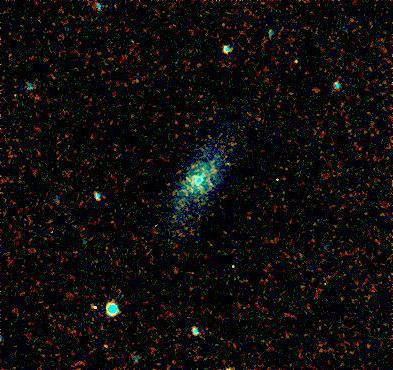star: (82, 293, 112, 323)
